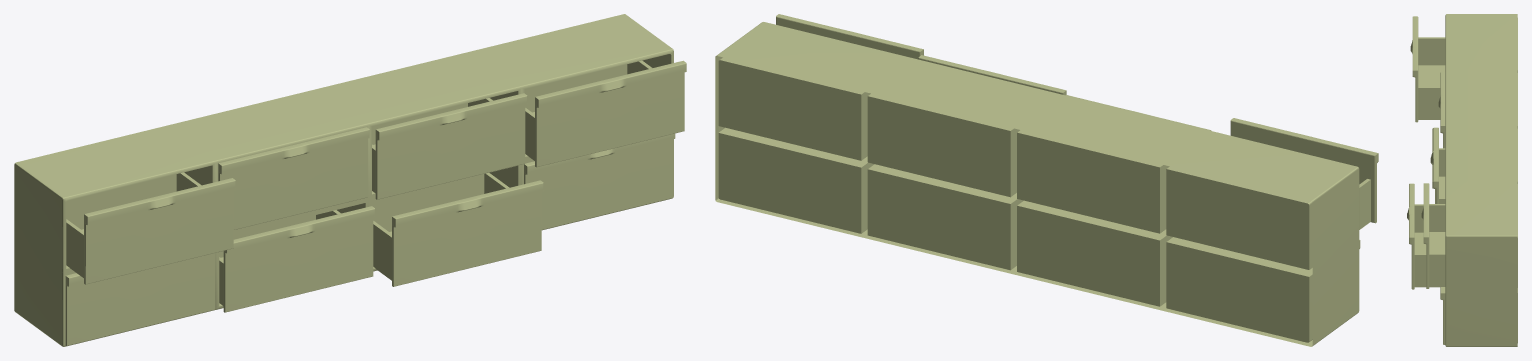
Rendered from overhead_shelf_final_B.fbx.
3 renders of one model, left to right at view 1: azimuth 30°, elevation 25°; view 2: azimuth 150°, elevation 25°; view 3: azimuth 270°, elevation 25°, orthographic. The views are drawn at different scales.
Visible parts, largest first — view 1: polySurface936; view 2: polySurface936; view 3: polySurface936.
Boxes of the visible parts, box(x1,y1,x2,y2) form: polySurface936: box(14, 14, 686, 346); polySurface936: box(715, 14, 1378, 346); polySurface936: box(1407, 14, 1517, 346).
Size of the model in its own units: 1.7 by 0.3972 by 0.3573.
